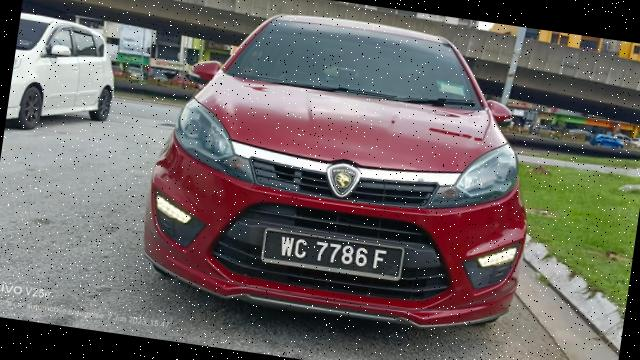License_Plate: (263, 231, 406, 280)
car: (135, 1, 554, 341)
